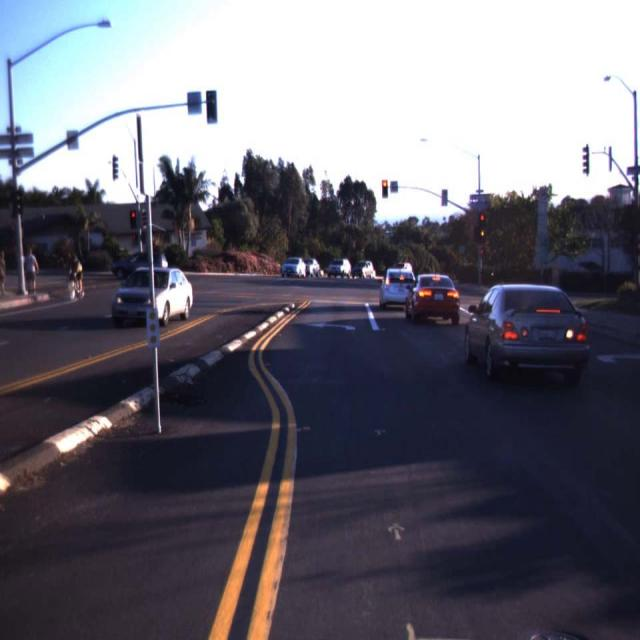kirmizi: (382, 180, 389, 198)
